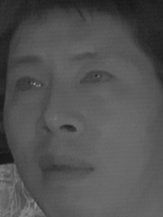eye: (75, 66, 120, 91), (10, 72, 47, 95)
mouth: (37, 150, 94, 186)
